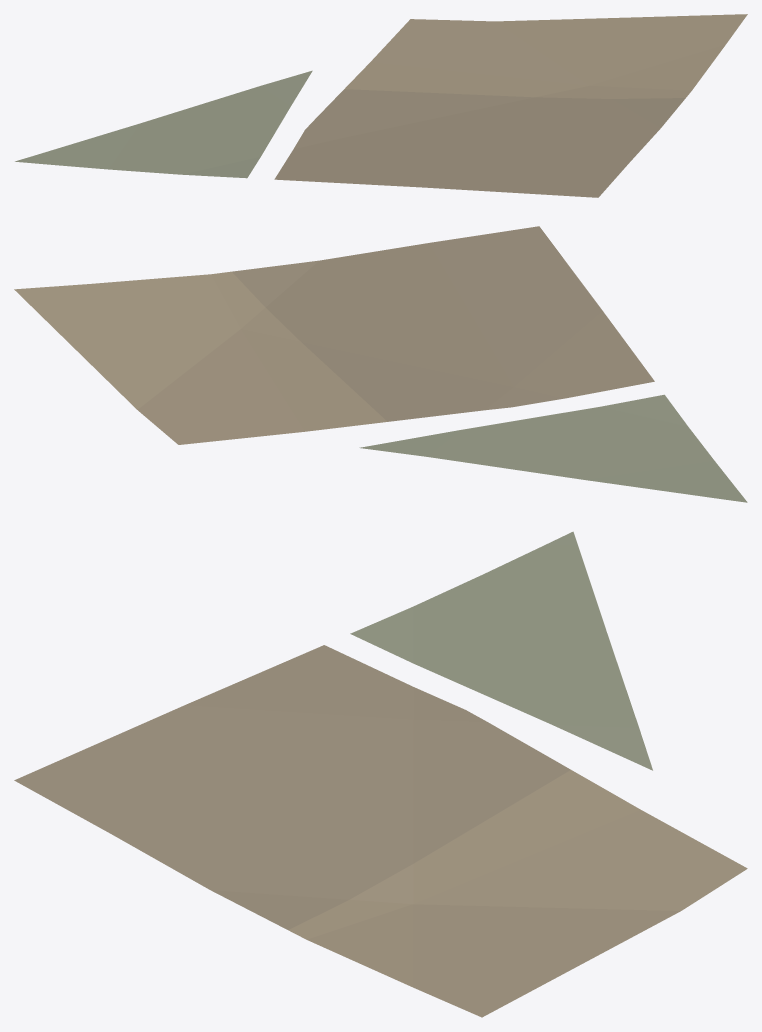
The model's file is farm_-28_-24_soil.glb.
3 renders of one model, top to bottom at view 1: azimuth 30°, elevation 25°; view 2: azimuth 150°, elevation 25°; view 3: azimuth 270°, elevation 25°, orthographic. The views are drawn at different scales.
Visible parts, largest first — view 1: geometry_0; view 2: geometry_0; view 3: geometry_0.
Boxes of the visible parts, bbox=[...] form: geometry_0: bbox=[15, 14, 747, 197]; geometry_0: bbox=[14, 226, 747, 502]; geometry_0: bbox=[14, 531, 747, 1017].
Bounding box in the file's own units: 225 × 8.5 × 144.
